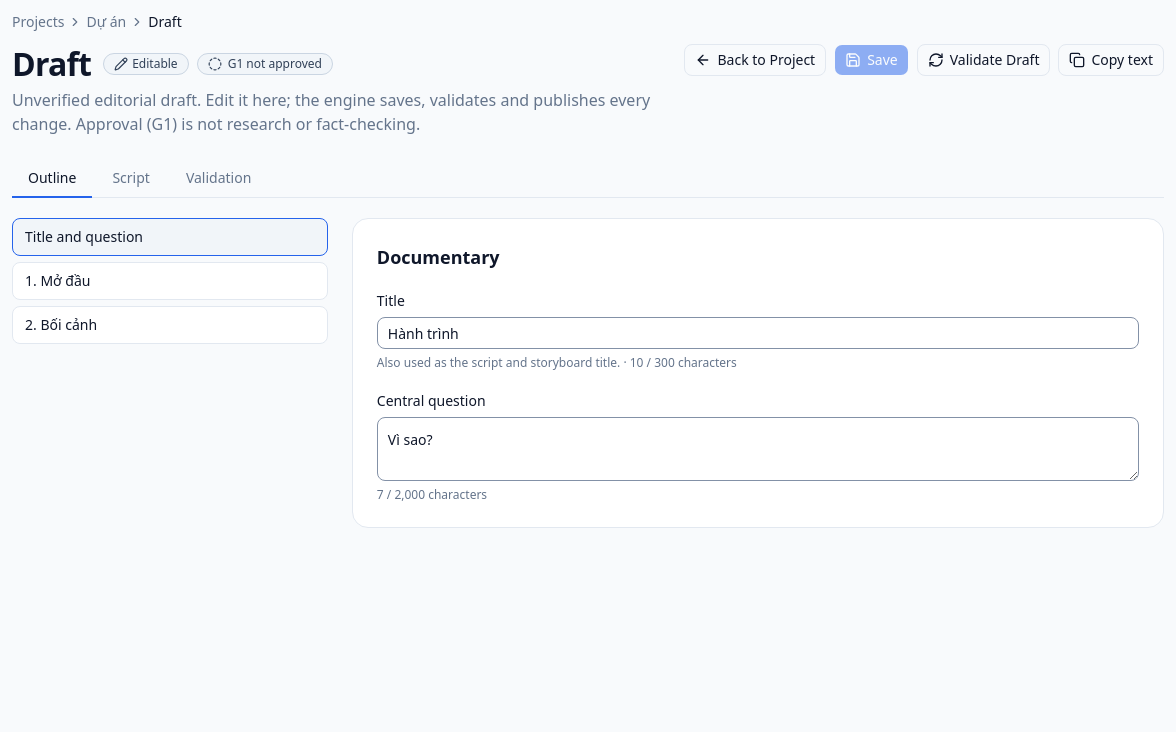
draft editor › edits the title, marks it unsaved, blocks approval, and saves only the change
Expected: the text "Editable" is shown, [103,53,189,75]
Expected: the button "Save" is disabled, [834,44,909,76]
Step 1. Clear the field labelled "Title" → (758, 333), box [377,317,1139,349]
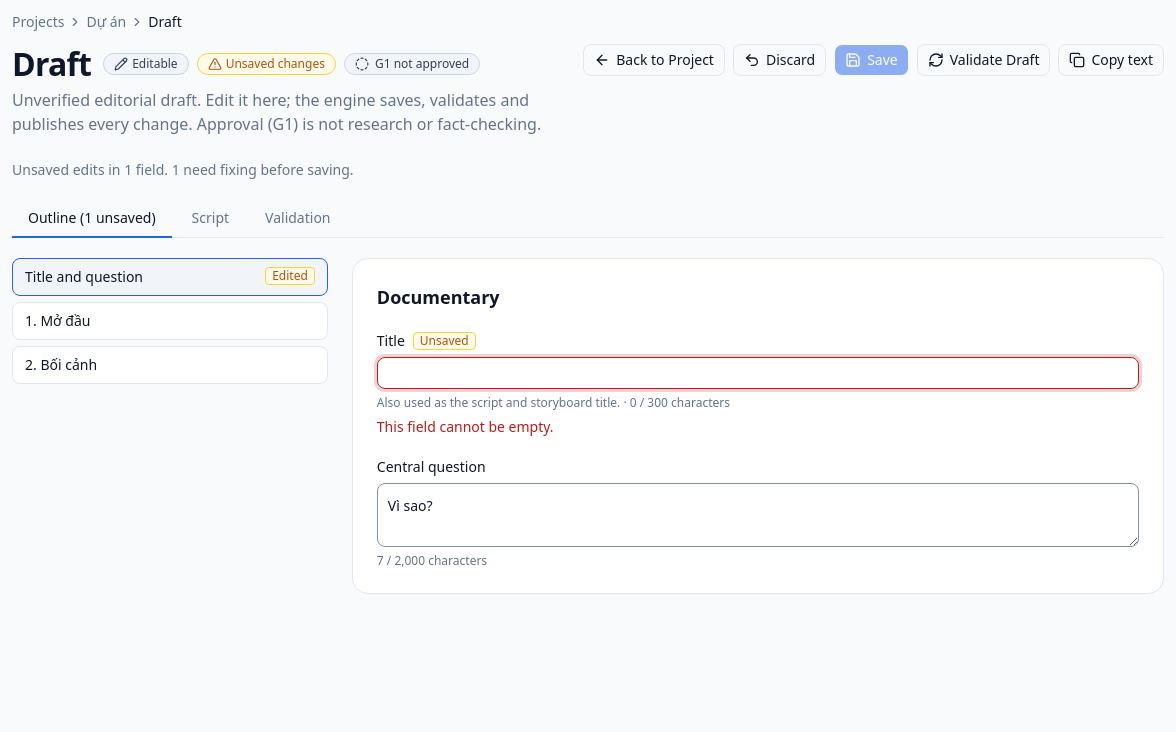
Step 2. Type "Hành trình mới" into the field labelled "Title Unsaved" → (758, 373), box [377,357,1139,389]
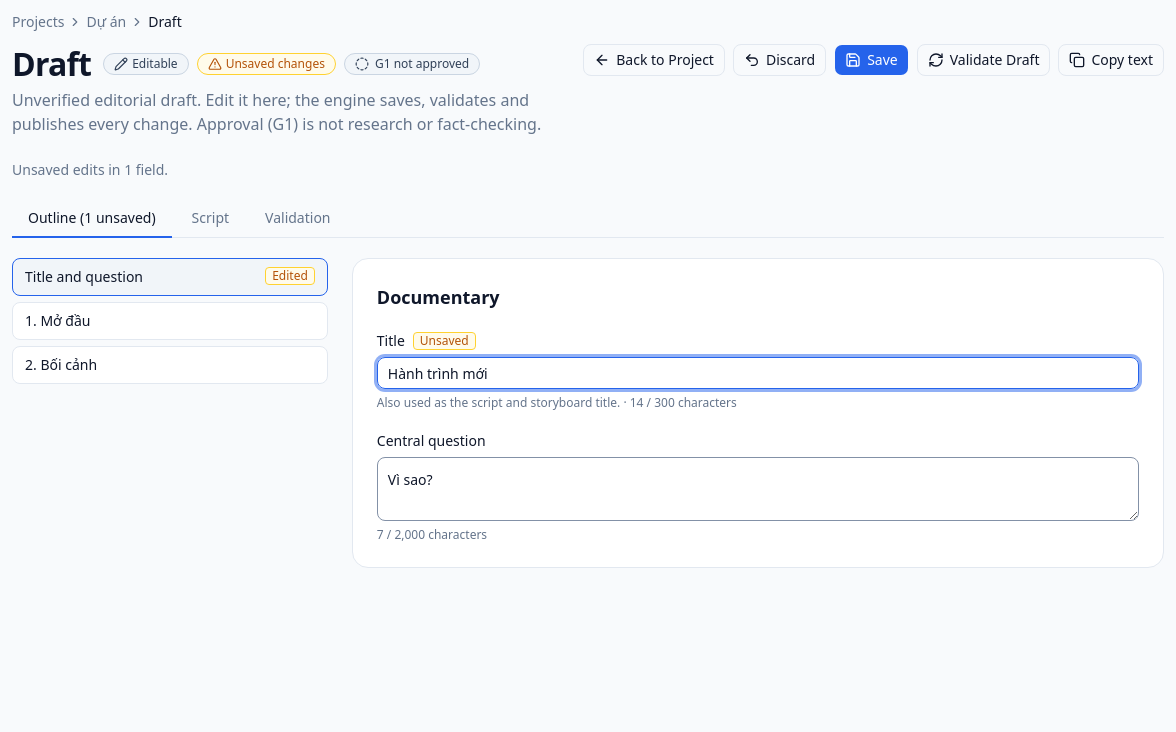
Expected: the text "Unsaved changes" is shown, [197,53,336,75]
Expected: the tab "Outline (1 unsaved)" is shown, [12,200,172,238]
Expected: the button "Save" is enabled, [834,44,909,76]
Approval is not offered while edits are unsaved.
Step 3. Click the tab "Validation" → click(298, 219), box [249,200,347,238]
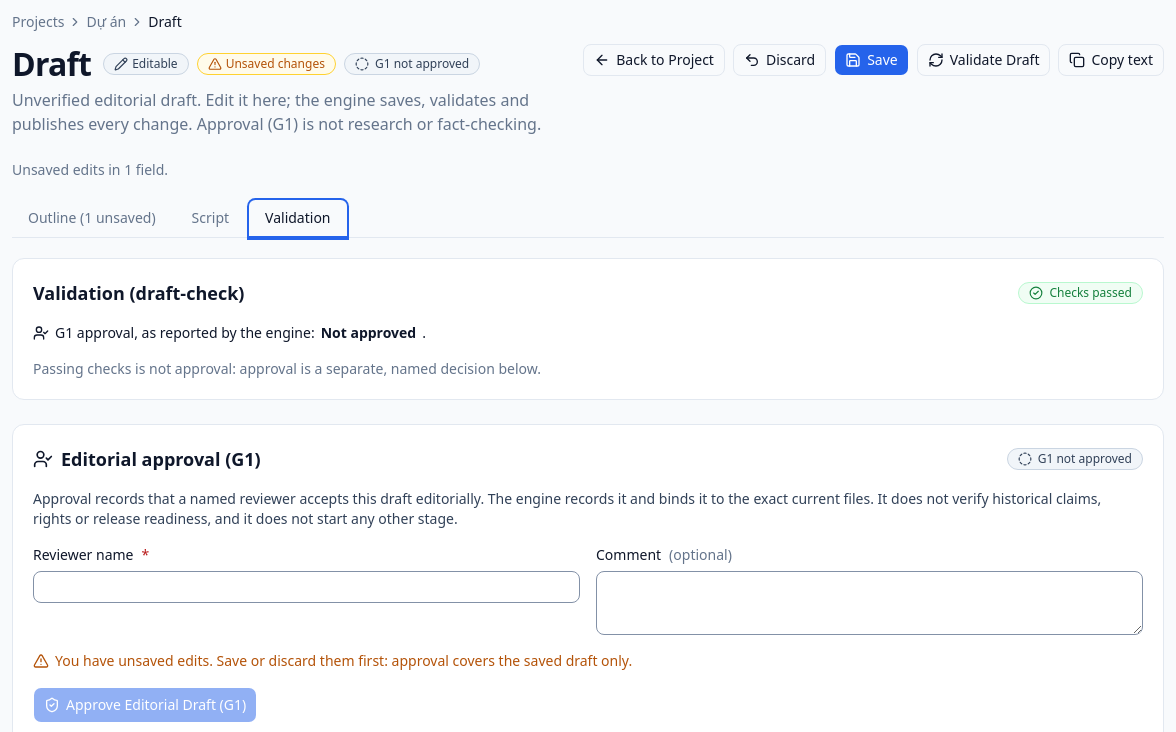
Expected: the button "Approve Editorial Draft (G1)" is disabled, [33,687,257,723]
Step 4. Click the button "Save" → click(872, 60), box [834,44,909,76]
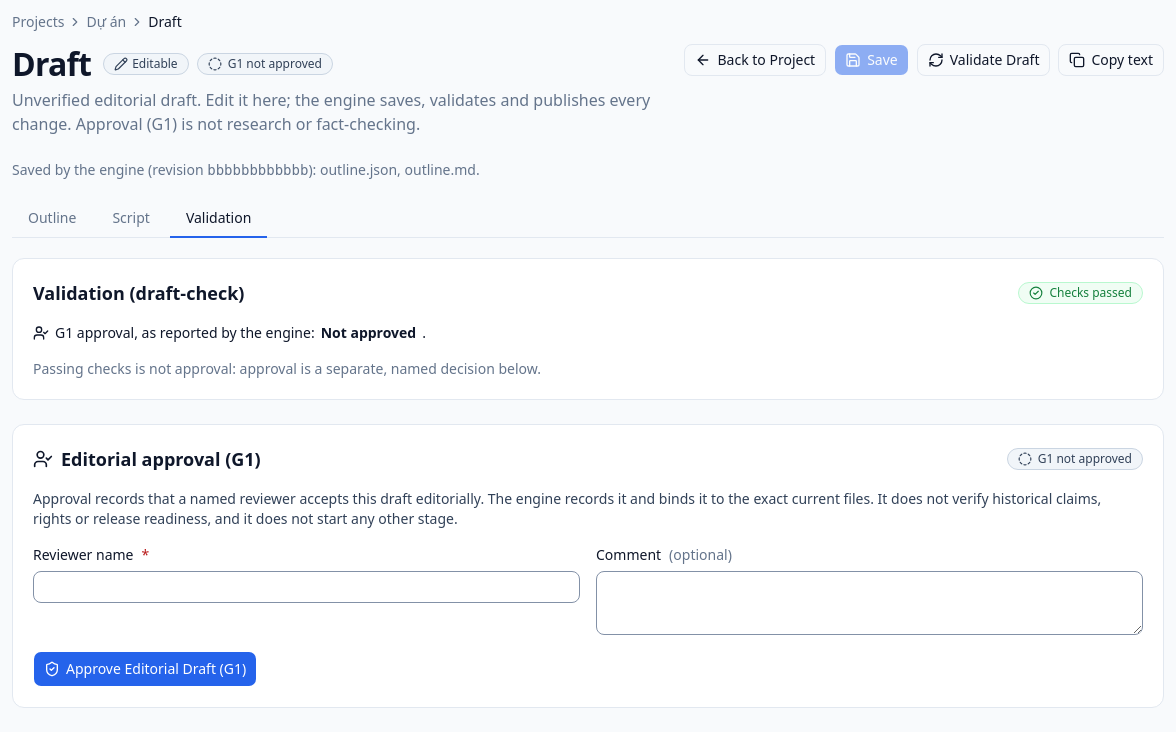
Expected: the text "Unsaved changes" is gone
Expected: the text "Saved by the engine" is shown, [12,160,207,179]
